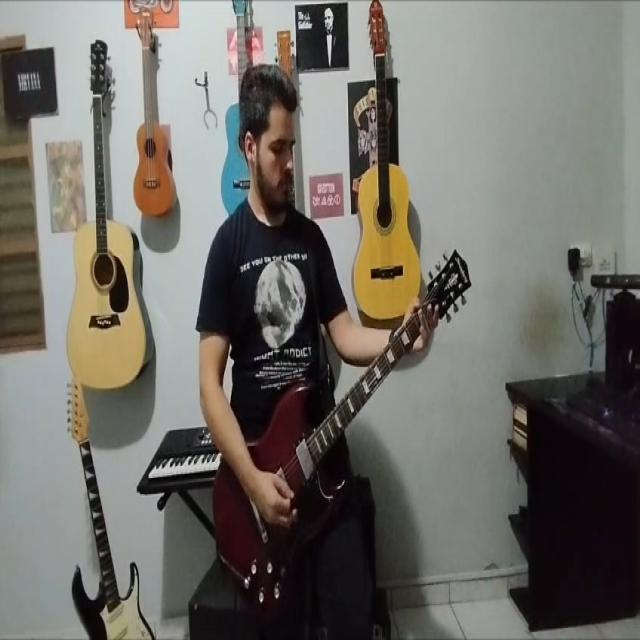acousticguitar: (68, 35, 149, 391), (352, 2, 419, 330), (223, 3, 260, 214)
guitar: (210, 250, 465, 612), (70, 376, 156, 640)
